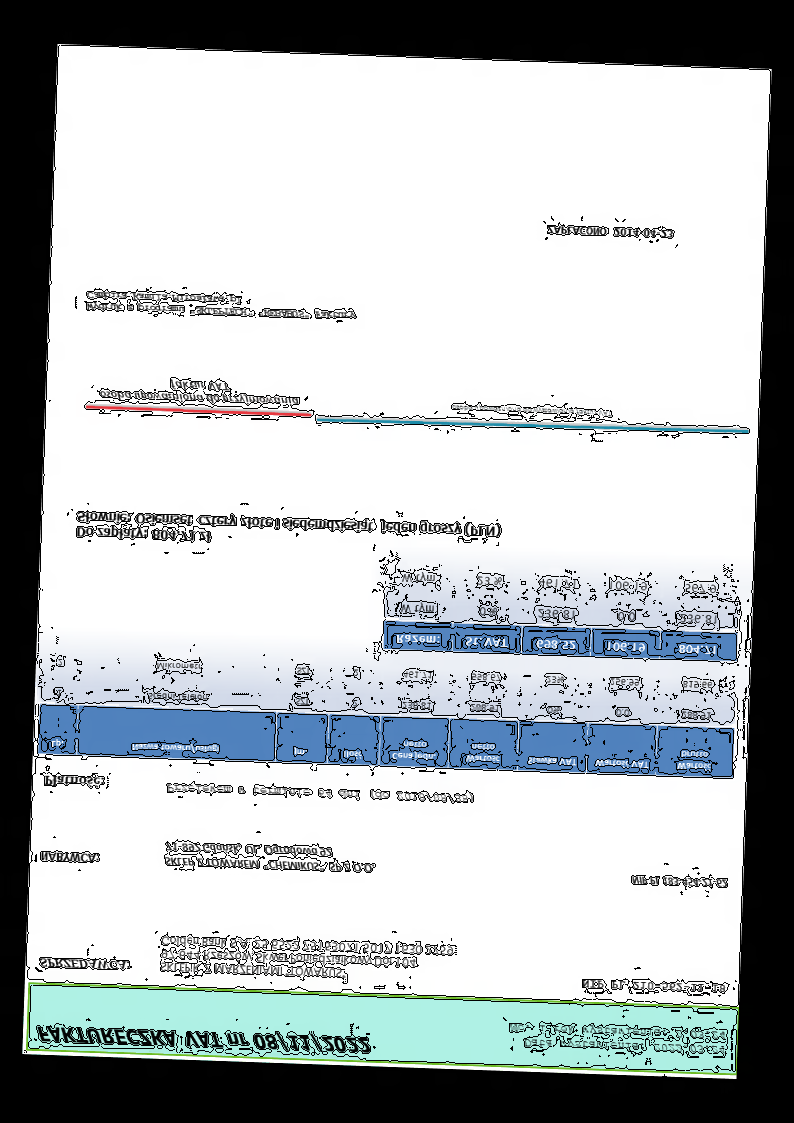Table: (36, 642, 737, 782), (381, 555, 742, 663)
TextBox: (73, 506, 504, 554), (157, 931, 456, 985), (32, 1022, 372, 1058), (83, 286, 358, 325), (506, 1020, 728, 1058), (162, 839, 374, 875), (164, 782, 474, 806), (96, 374, 302, 409), (448, 401, 616, 419), (578, 976, 727, 996), (544, 223, 676, 241), (36, 956, 131, 974), (628, 874, 728, 890), (37, 849, 100, 867), (42, 773, 105, 791)
